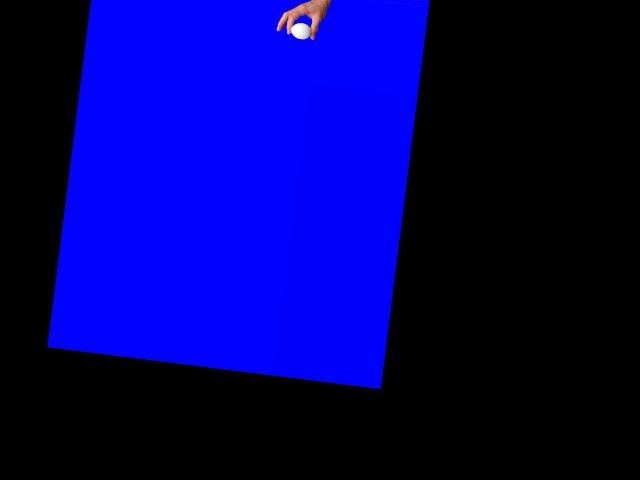egg: (290, 22, 312, 40)
